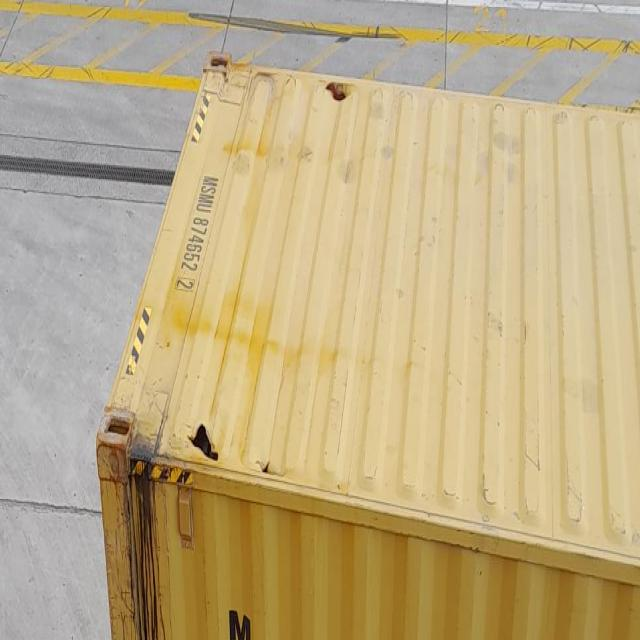hole: (190, 422, 221, 461), (327, 83, 353, 105), (255, 458, 276, 483)
